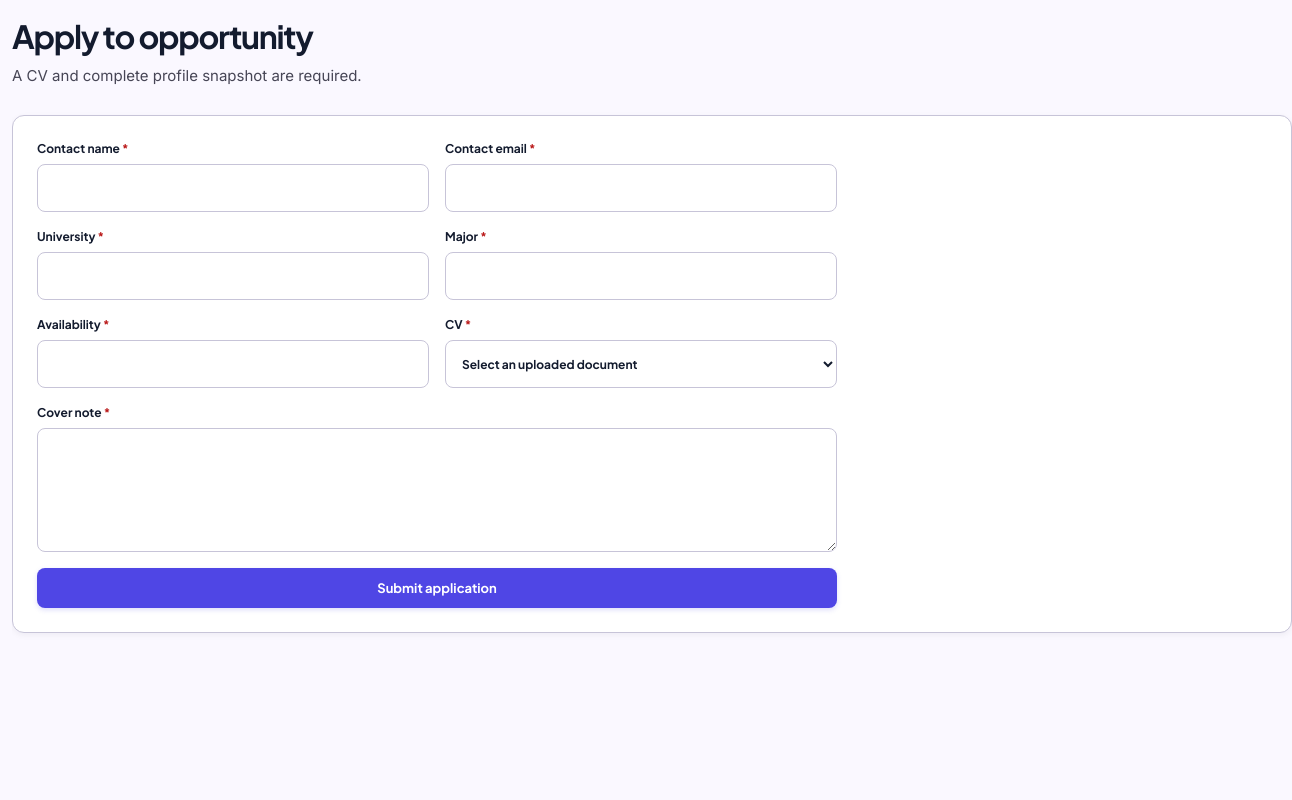
sends the application snapshot and displays a rejected submission
Check: the button "Submit application" is shown, box left=37, top=568, right=837, bottom=608
Step 1. Type "Student" into the field labelled "Contact name *" → (233, 188), box left=37, top=164, right=429, bottom=212
Step 2. Type "s@example.test" into the field labelled "Contact email *" → (641, 188), box left=445, top=164, right=837, bottom=212
Step 3. Type "University" into the field labelled "University *" → (233, 276), box left=37, top=252, right=429, bottom=300
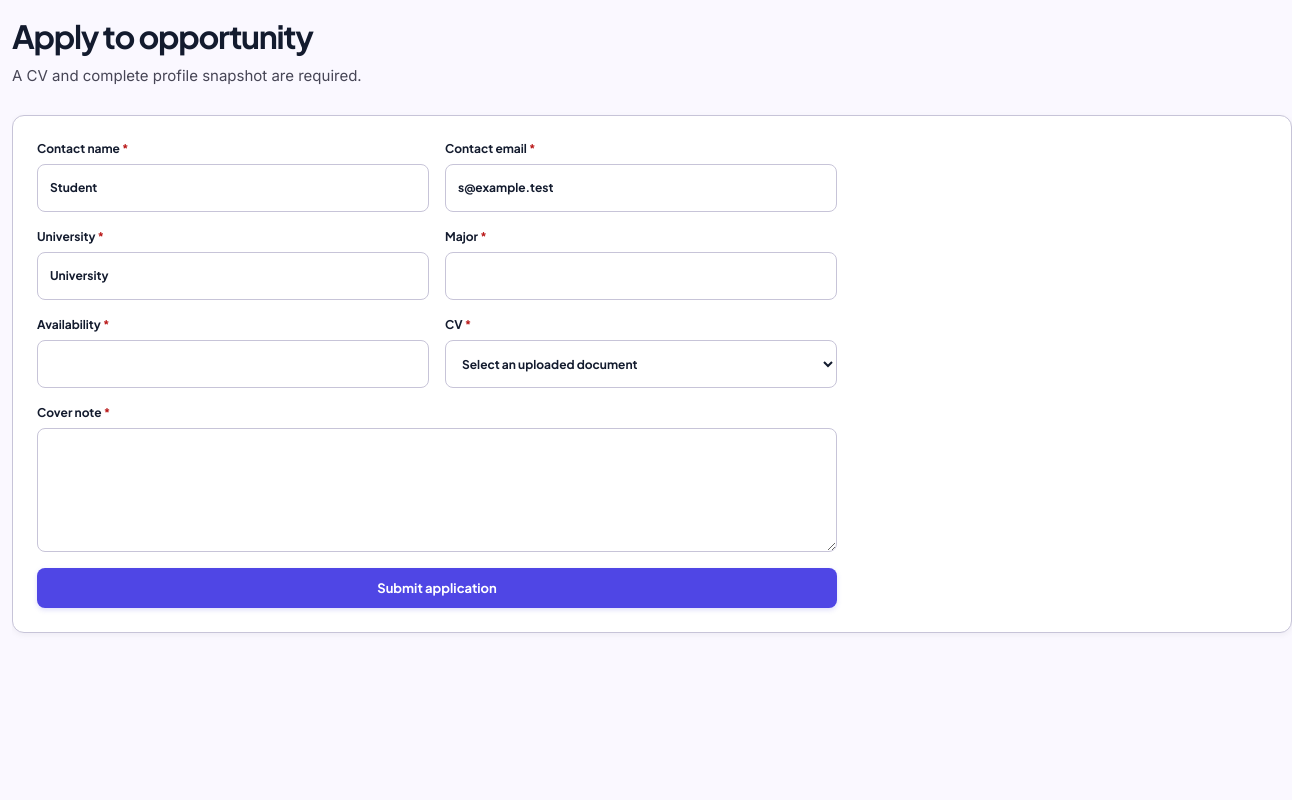
Step 4. Type "CS" into the field labelled "Major *" → (641, 276), box left=445, top=252, right=837, bottom=300
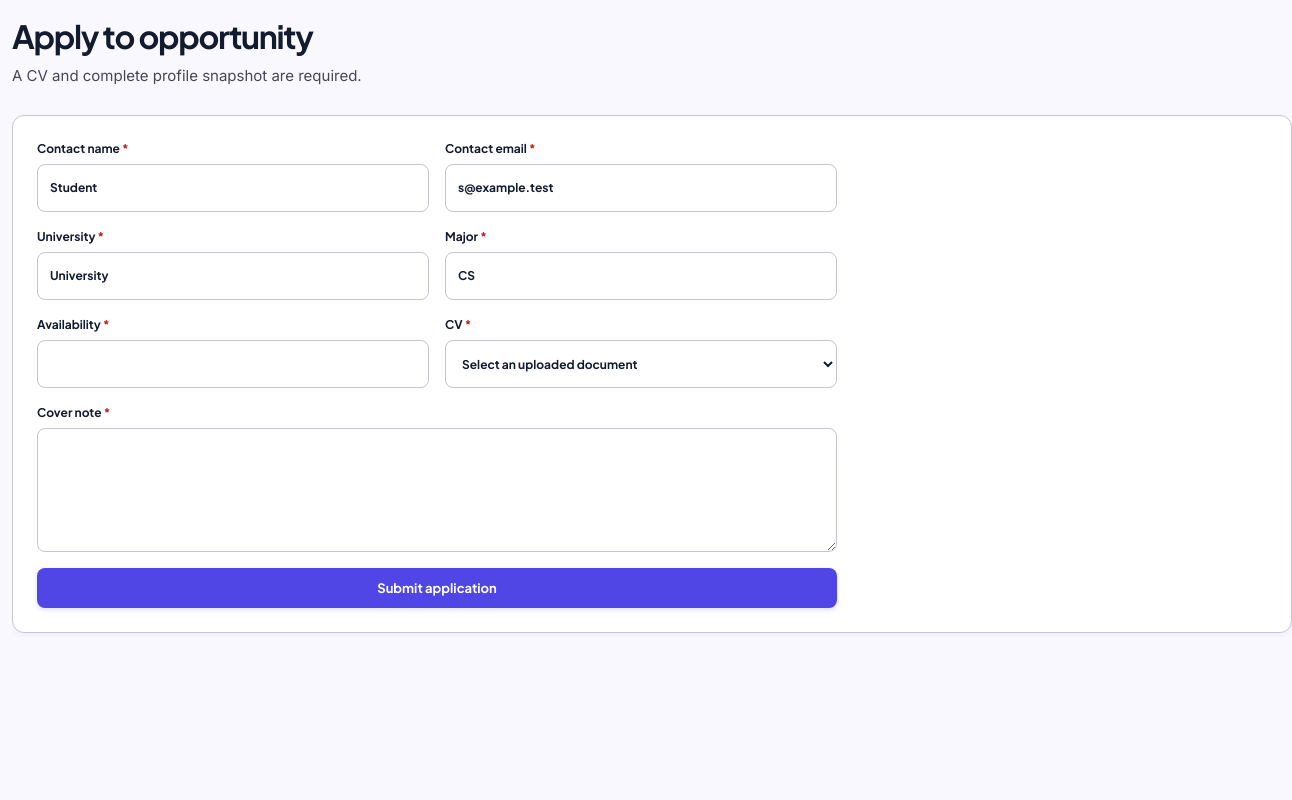
Step 5. Type "Now" into the field labelled "Availability *" → (233, 364), box left=37, top=340, right=429, bottom=388
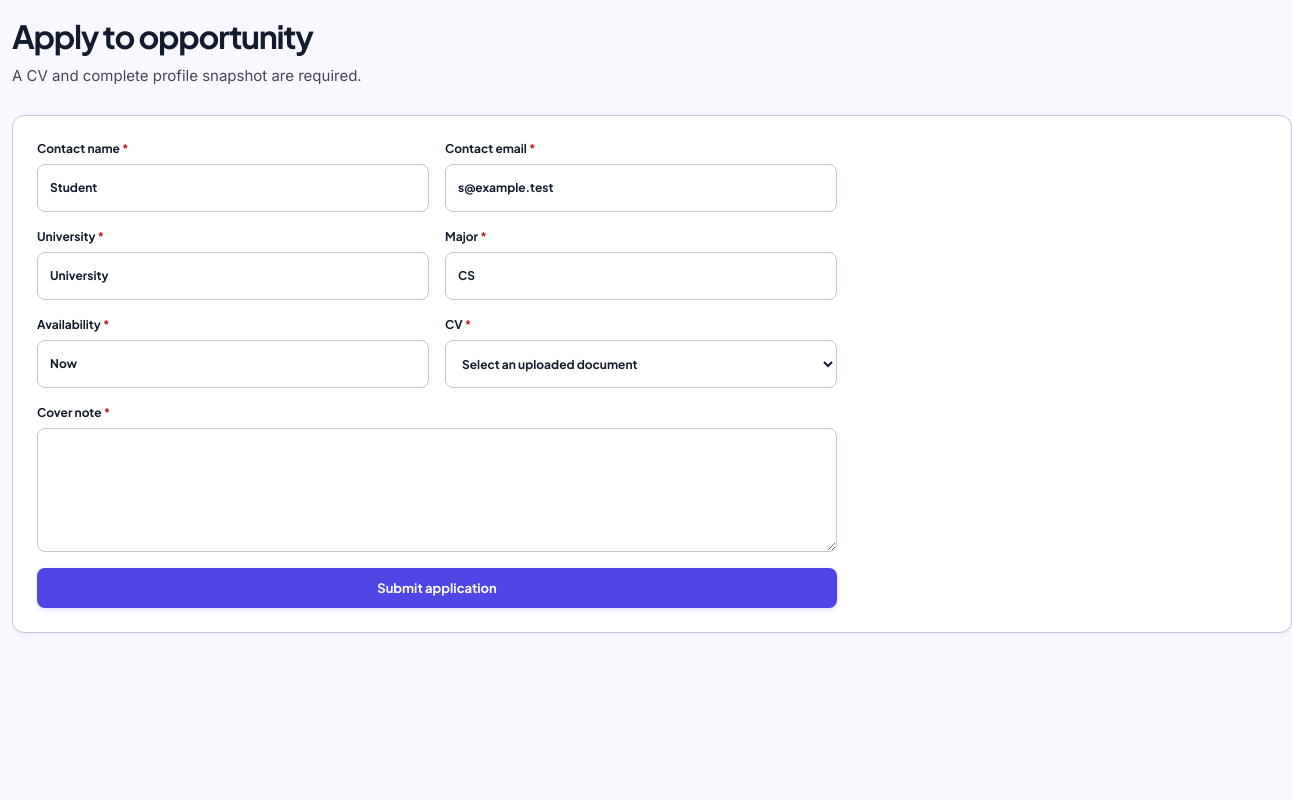
Step 6. Type "Ready" into the text box labelled "Cover note *" → (437, 490), box left=37, top=428, right=837, bottom=552
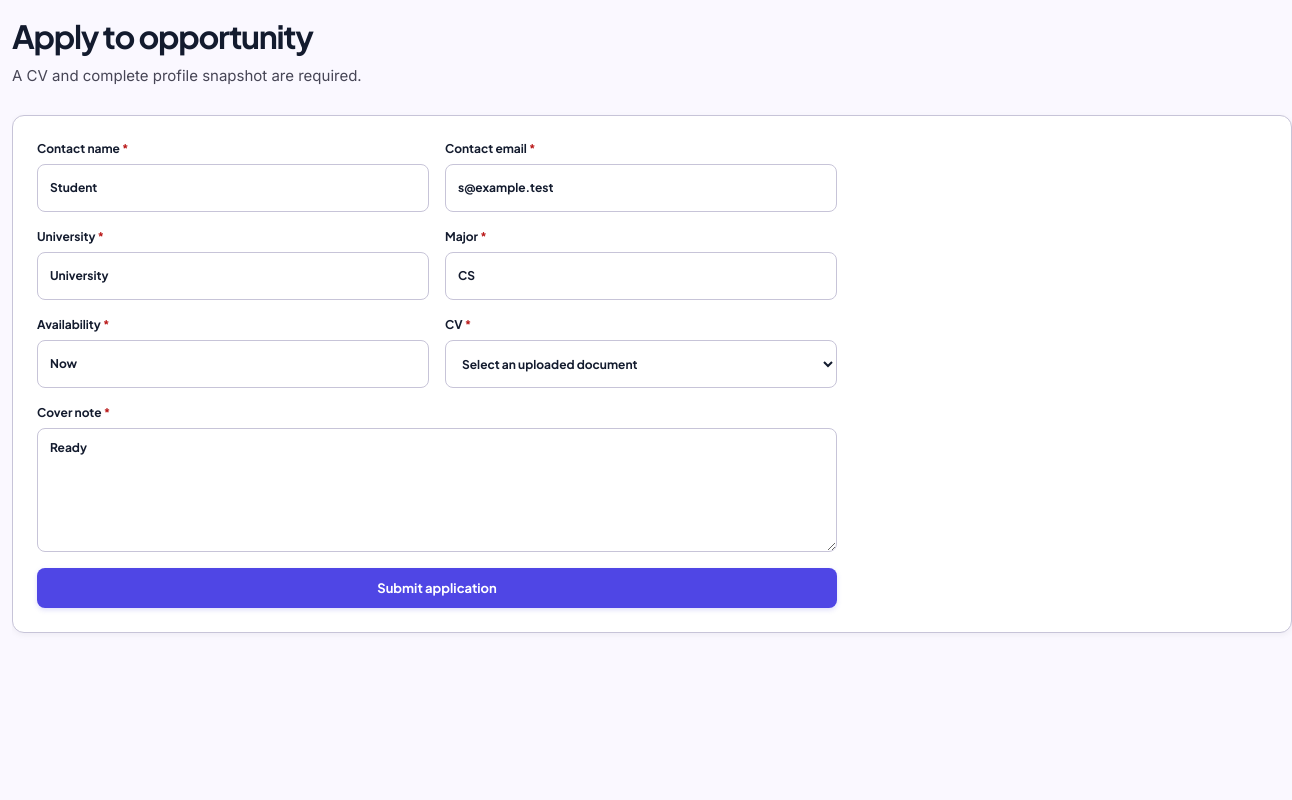
Step 7. Select "cv.pdf" in the dropdown labelled "CV *" → (641, 364), box left=445, top=340, right=837, bottom=388
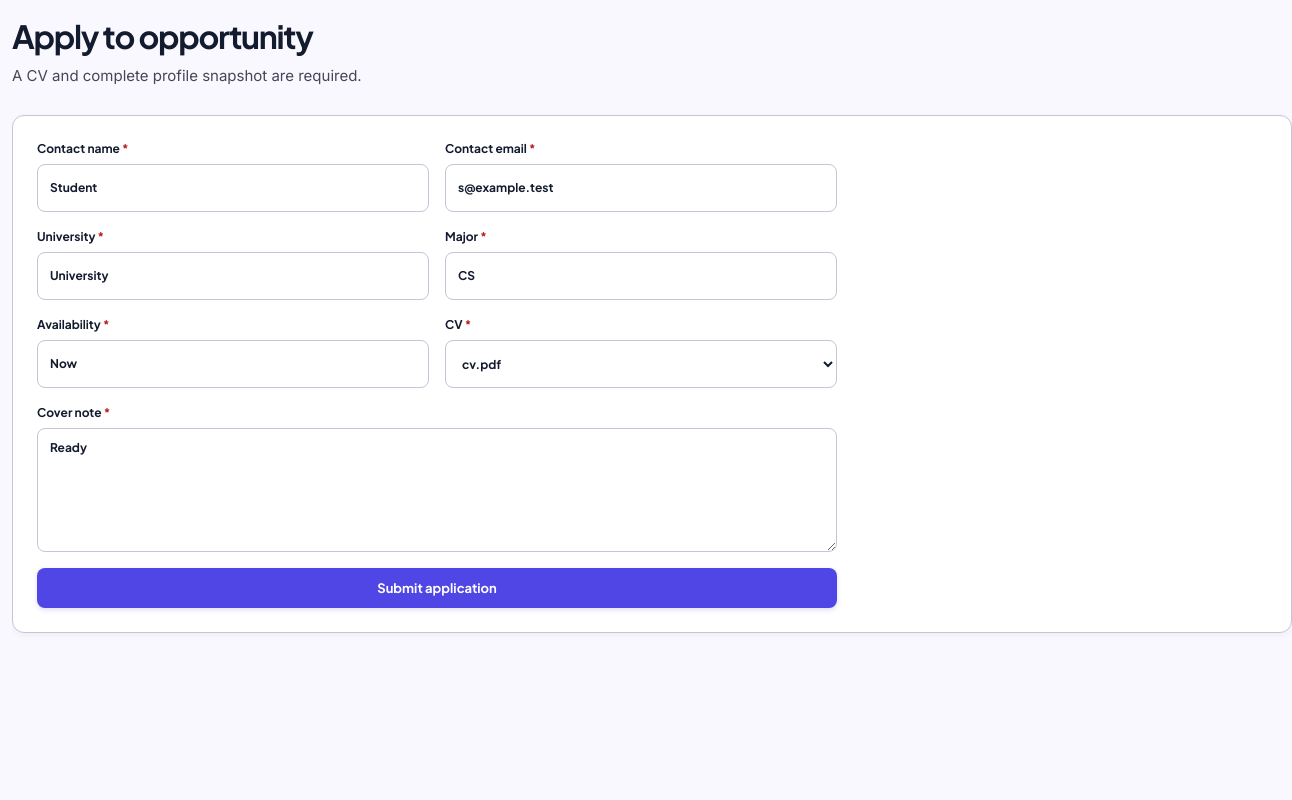
Step 8. Click the button "Submit application" → (437, 588), box left=37, top=568, right=837, bottom=608
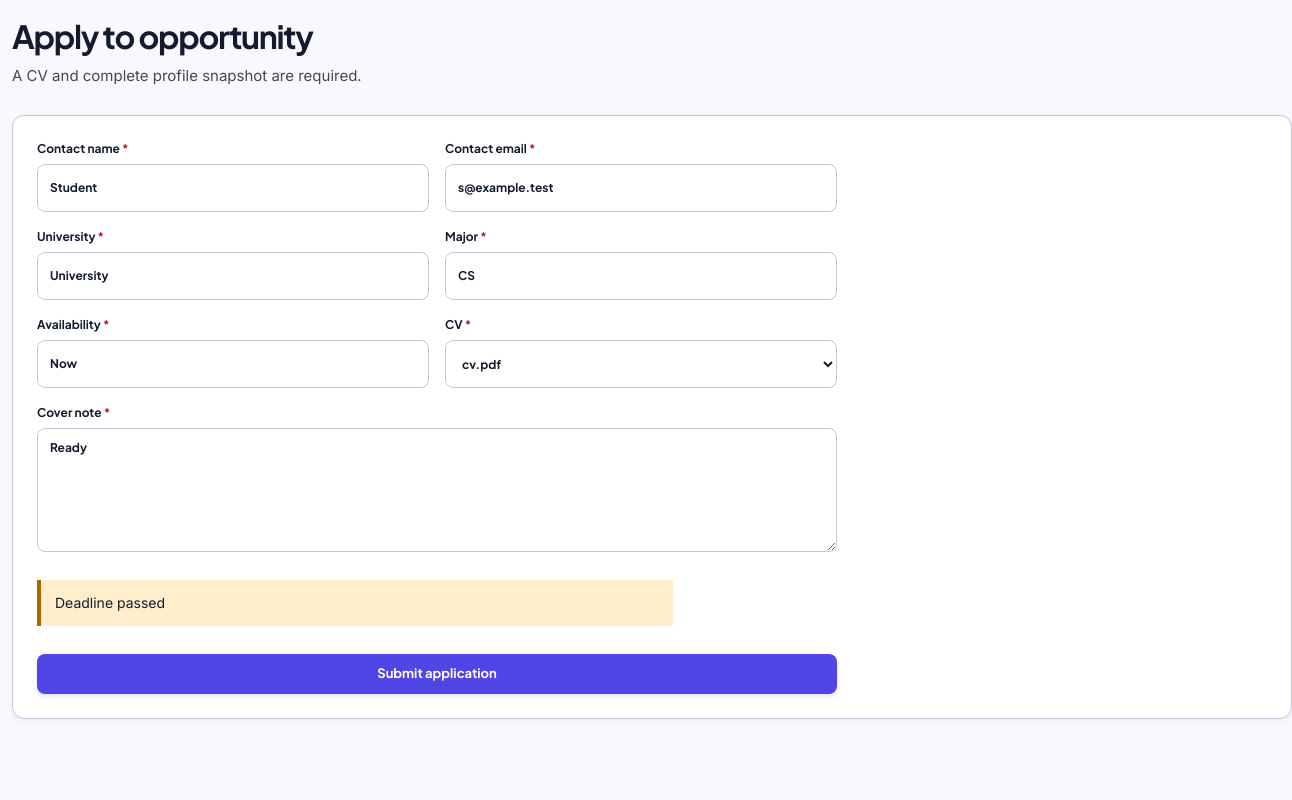
Check: the text "Deadline passed" is shown, box left=37, top=580, right=673, bottom=626
